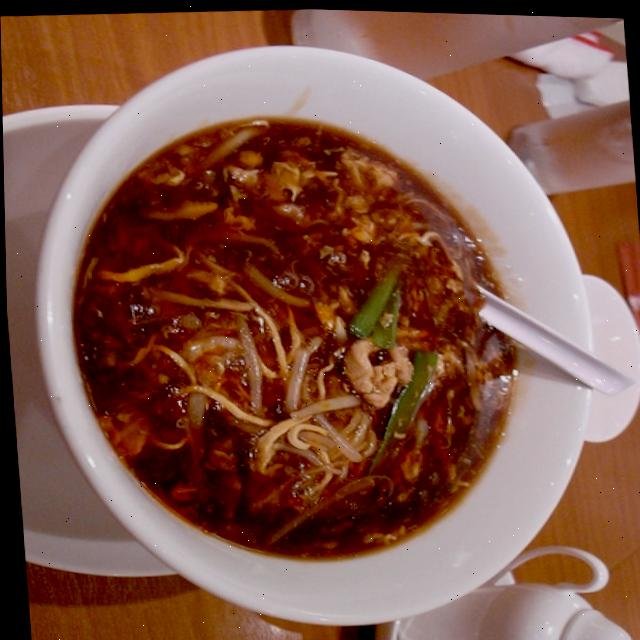面条主食: (27, 21, 619, 625)
